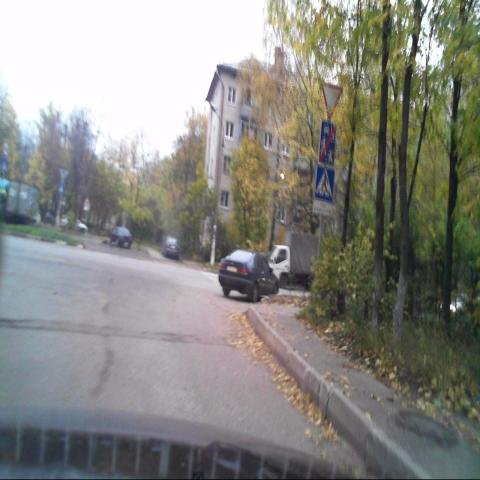5_22: (320, 121, 337, 165)
